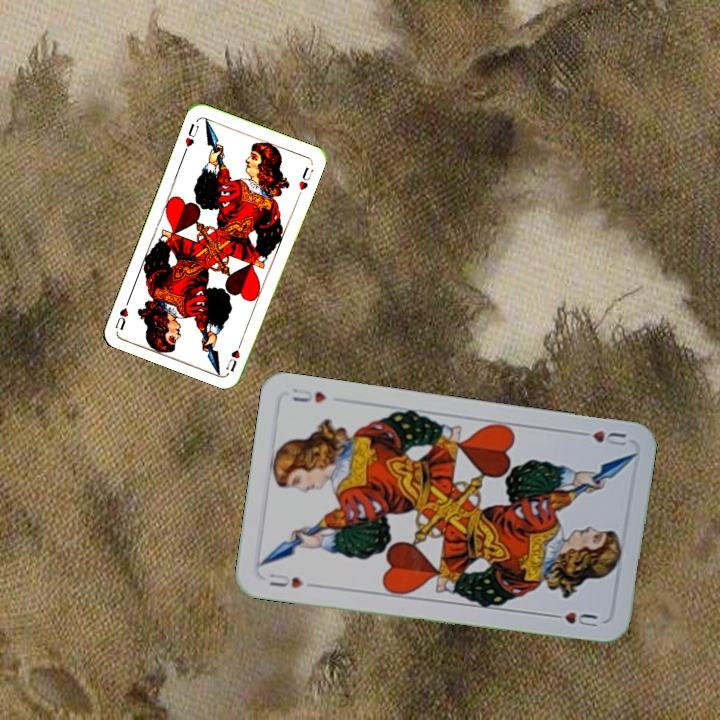HU: (572, 426, 630, 449), (222, 335, 246, 374), (264, 569, 306, 591), (180, 119, 201, 156)
